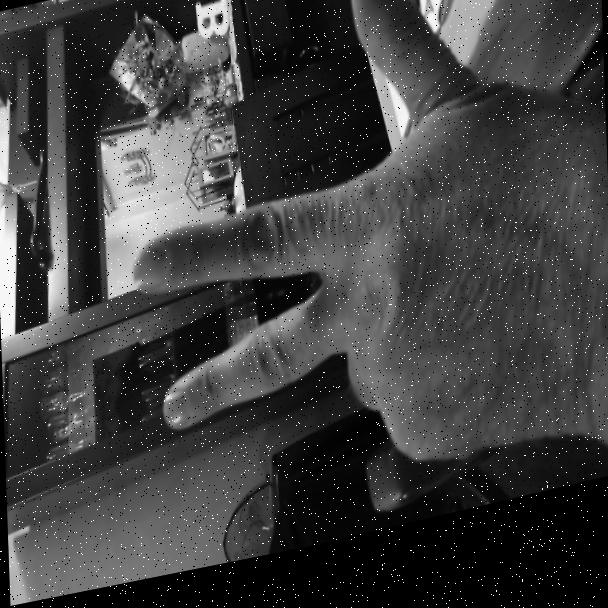three: (125, 0, 593, 542)
